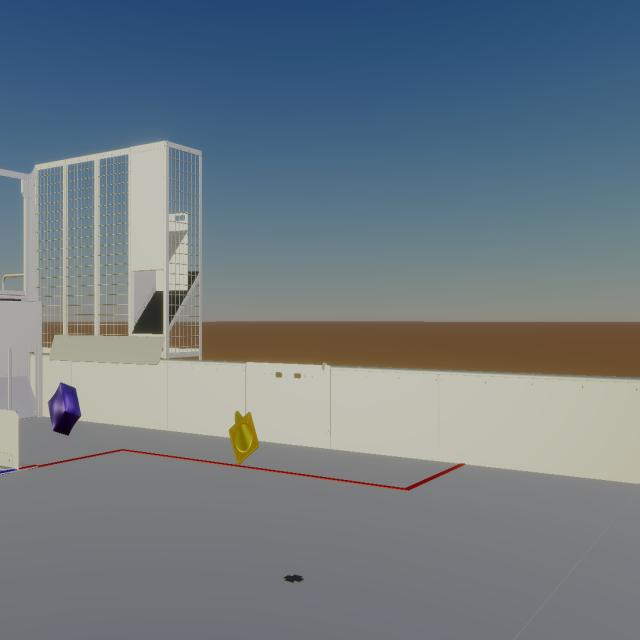frc_cone: (229, 411, 259, 465)
frc_cube: (48, 382, 81, 436)
